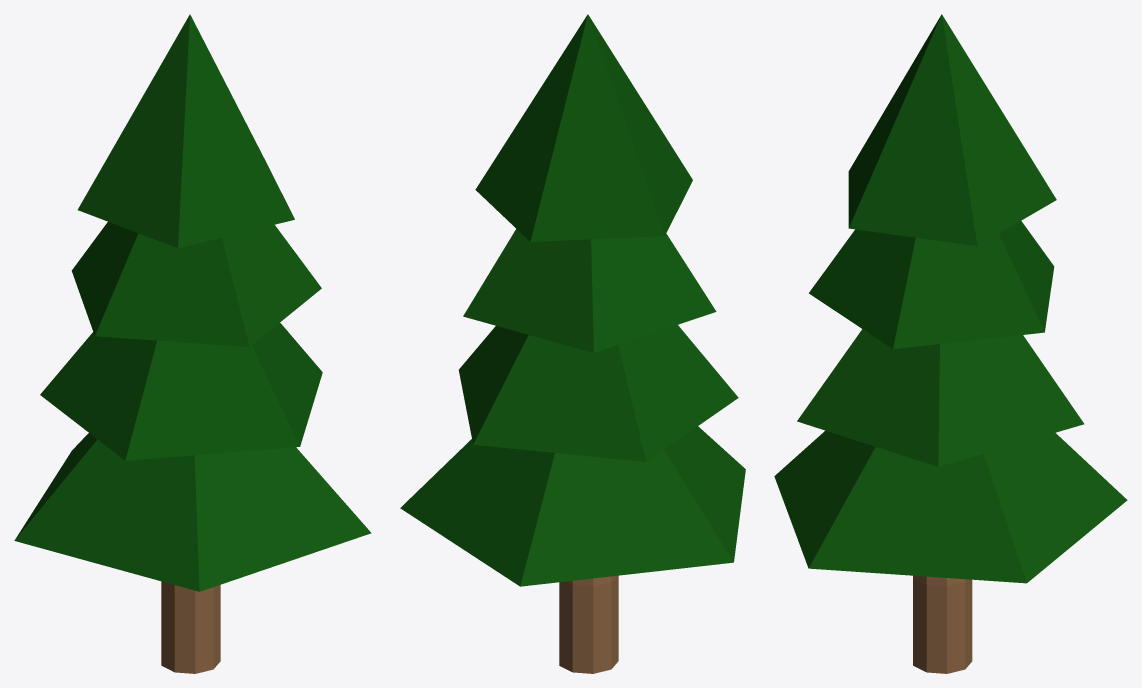
The model's file is Fir_5.fbx.
3 views of the same model, side by side, from view 1: azimuth 30°, elevation 25°; view 2: azimuth 150°, elevation 25°; view 3: azimuth 270°, elevation 25° (orthographic).
Visible parts, largest first — view 1: Fir5_mesh; view 2: Fir5_mesh; view 3: Fir5_mesh.
Boxes of the visible parts, left/top/right/bottom form: Fir5_mesh: left=14, top=14, right=371, bottom=673; Fir5_mesh: left=400, top=14, right=745, bottom=673; Fir5_mesh: left=774, top=14, right=1127, bottom=673.
Bounding box in the file's own units: 215 × 434 × 215.
